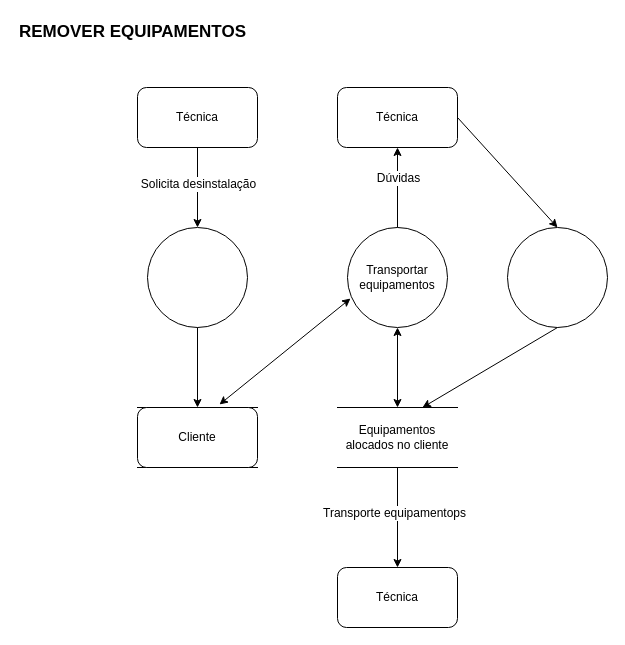
The diagram is 625 pixels wide and 645 high, and some of its shapes have lost their labels. Each missing label, with the centre of its shape:
Obter equipamentos: [197,277]
Registrar respostas: [557,277]
